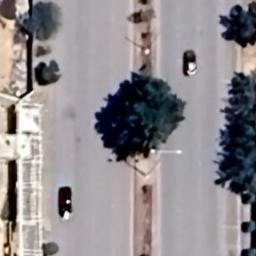sedan: (182, 48, 202, 78)
unknown: (52, 178, 77, 226)
